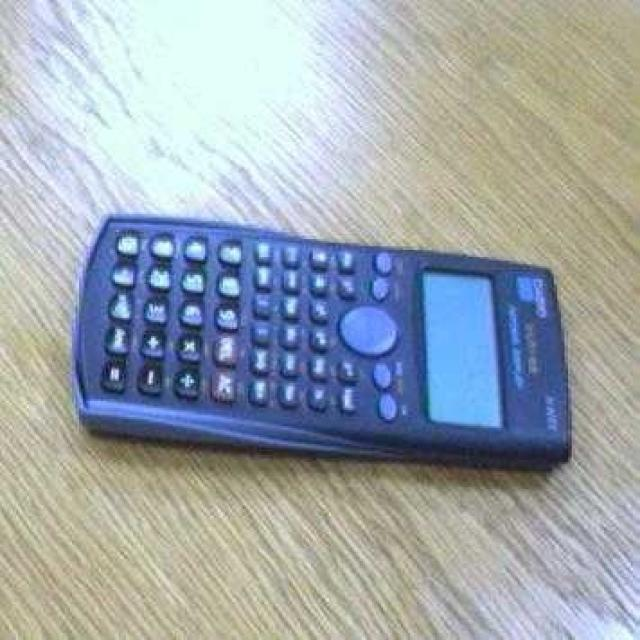Calculator: (68, 210, 572, 471)
